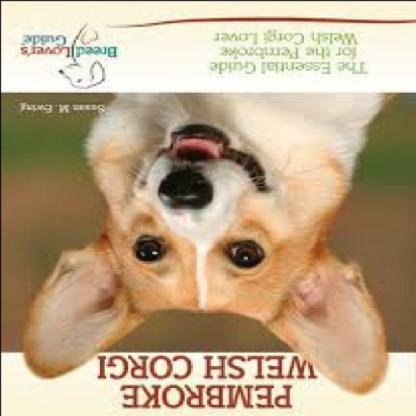dog: (21, 90, 394, 394)
